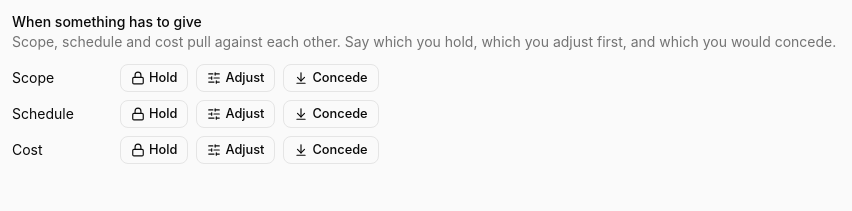
Test: the stances › are set up front as tiles, and warn when all three are held
The image size is (852, 211).
Check: the heading "When something has to give" is shown, box [12, 13, 202, 30]
Click the radio button with aria-label "Hold it: it cannot move" at (154, 150), box [120, 136, 188, 164]
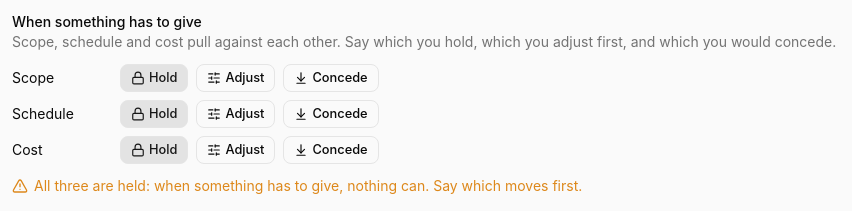
Check: the message shows "All three are held: when something has to give, nothing can. Say which moves first.", box [34, 177, 582, 194]
